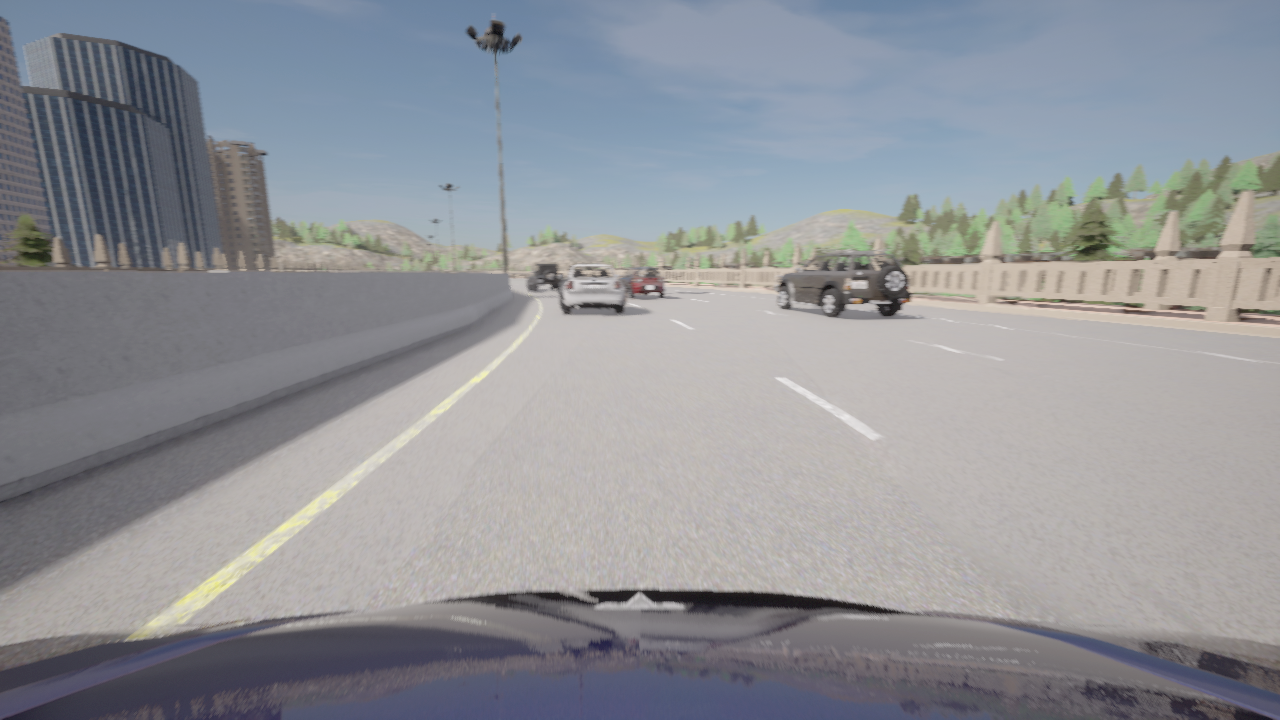cyclist: (0, 588, 1279, 719), (774, 250, 912, 317), (558, 264, 625, 314), (619, 267, 665, 298), (527, 263, 561, 291)
